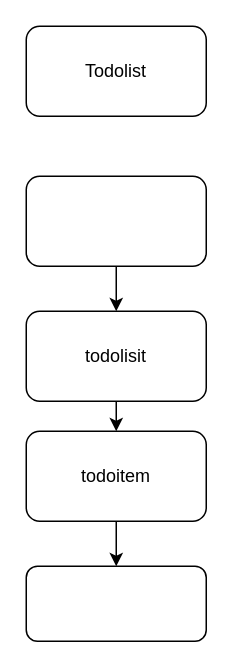
This 233x668 diagram has some shape labels left out. Here are the shapes that lost their labels. From the top down, the centre of each, then its label:
(115,220): todoform
(115,603): fontawesome icom
